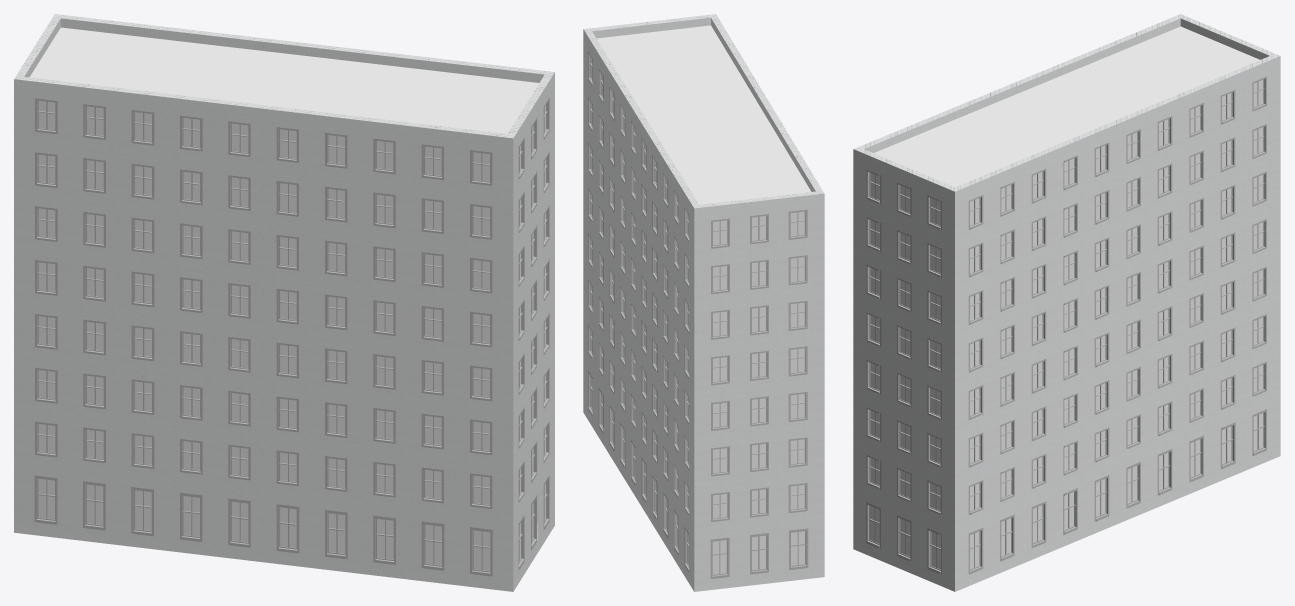
File: clohc4iij03lh4p02cq2b61hw_0.glb
3 renders of one model, left to right at view 1: azimuth 30°, elevation 25°; view 2: azimuth 150°, elevation 25°; view 3: azimuth 270°, elevation 25°, orthographic. The views are drawn at different scales.
Parts seen in each view (by area): view 1: mesh_Brick, mesh_Rim, mesh_Glass, mesh_CityEnginePBRShader; view 2: mesh_Brick, mesh_Rim, mesh_CityEnginePBRShader, mesh_Glass; view 3: mesh_Brick, mesh_Rim, mesh_Glass, mesh_CityEnginePBRShader.
Boxes of the visible parts, box(x1,y1,x2,y2) form: mesh_Brick: box(14, 14, 554, 591); mesh_Rim: box(34, 97, 549, 576); mesh_Glass: box(38, 100, 545, 570); mesh_CityEnginePBRShader: box(30, 27, 538, 133); mesh_Brick: box(583, 14, 824, 591); mesh_Rim: box(588, 51, 808, 578); mesh_CityEnginePBRShader: box(596, 25, 811, 204); mesh_Glass: box(591, 58, 804, 574); mesh_Brick: box(853, 14, 1280, 591); mesh_Rim: box(866, 76, 1266, 574); mesh_Glass: box(870, 80, 1263, 569); mesh_CityEnginePBRShader: box(874, 26, 1259, 187).
Bounding box in the file's own units: 28.45 × 29.86 × 28.89.
Materials: 4 (1 with a texture image).
